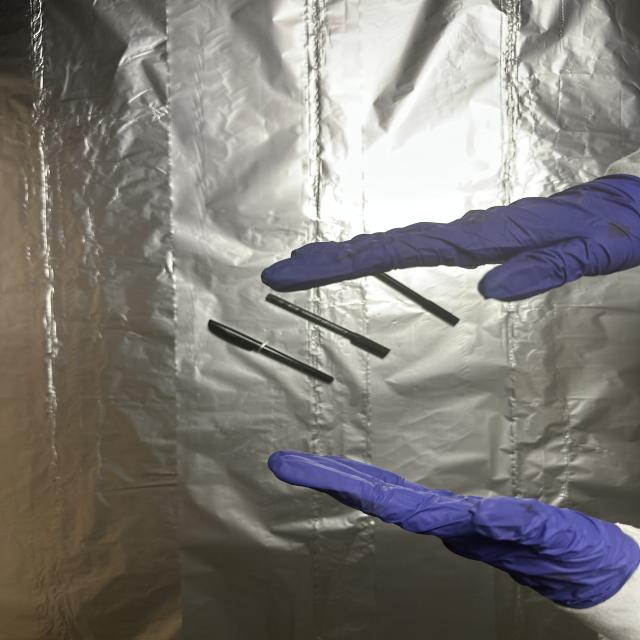gloves_contaminated: (268, 451, 640, 610), (262, 175, 640, 302)
